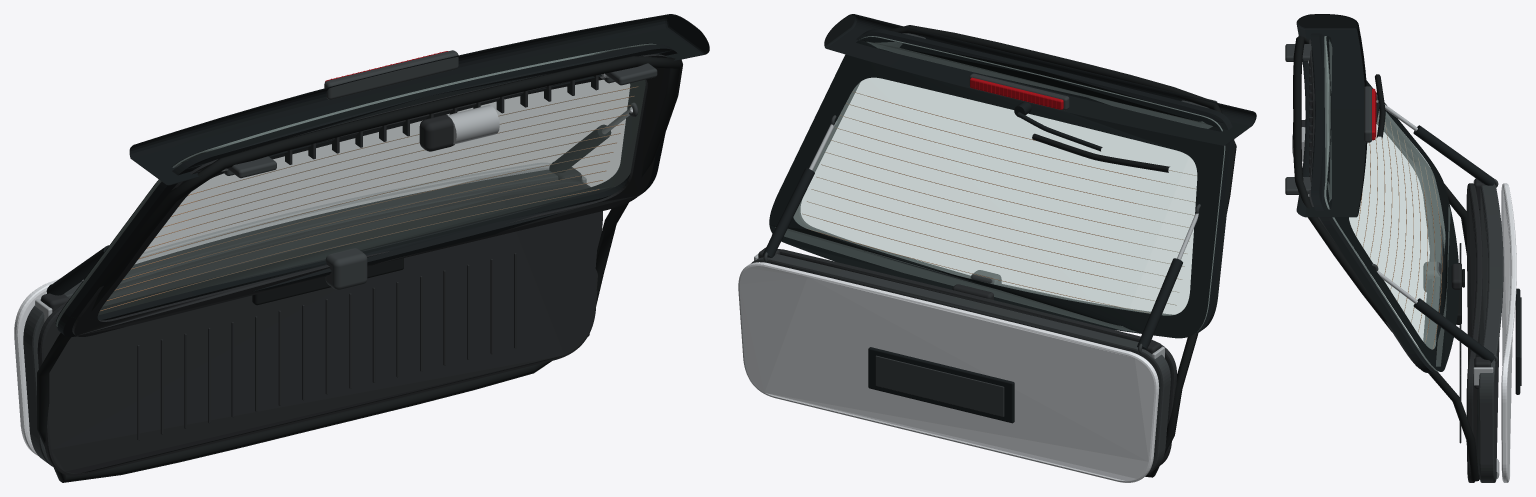
3 views of the same model, side by side, from view 1: azimuth 30°, elevation 25°; view 2: azimuth 150°, elevation 25°; view 3: azimuth 270°, elevation 25° (orthographic). The views are drawn at different scales.
Parts seen in each view (by area): view 1: hatch-lower-trim, rear-glass, hatch-seal, hatch-spoiler, hatch-upper-frame, hatch-upper-trim, tailgate, hatch-lower-panel, hatch-brake-light, hatch-wiper-motor, hatch-upper-lock, hatch-strut-left--strut-barrel (+2 smaller); view 2: rear-glass, hatch-lower-panel, hatch-spoiler, hatch-upper-frame, tailgate, hatch-seal, hatch-lower-trim, hatch-wiper-arm, hatch-brake-light, hatch-strut-left--strut-barrel, hatch-strut-right--strut-barrel, hatch-upper-trim; view 3: rear-glass, hatch-spoiler, hatch-upper-frame, tailgate, hatch-seal, hatch-lower-panel, hatch-lower-trim, hatch-upper-trim, hatch-strut-left--strut-barrel, hatch-strut-right--strut-barrel, hatch-brake-light, hatch-wiper-arm (+5 smaller).
Boxes of the visible parts, x1,y1,x2,y2 form: hatch-lower-trim: (37,180,602,476); rear-glass: (55,43,656,326); hatch-seal: (37,56,682,482); hatch-spoiler: (129,14,709,185); hatch-upper-frame: (57,44,677,336); hatch-upper-trim: (72,54,669,336); tailgate: (23,169,558,466); hatch-lower-panel: (14,162,551,455); hatch-brake-light: (324,50,458,99); hatch-wiper-motor: (419,105,499,151); hatch-upper-lock: (325,248,367,289); hatch-strut-left--strut-barrel: (549,124,611,173); rear-glass: (769,36,1225,338); hatch-lower-panel: (738,262,1159,482); hatch-spoiler: (824,14,1256,145); hatch-upper-frame: (775,29,1234,333); tailgate: (751,254,1170,474); hatch-seal: (772,25,1236,477); hatch-lower-trim: (777,249,1176,465); hatch-wiper-arm: (1014,102,1169,172); hatch-brake-light: (969,73,1069,110); hatch-strut-left--strut-barrel: (762,168,814,257); hatch-strut-right--strut-barrel: (1137,258,1182,349); hatch-upper-trim: (794,82,1174,315); rear-glass: (1324,36,1459,371); hatch-spoiler: (1296,14,1367,217); hatch-upper-frame: (1311,33,1445,372); tailgate: (1478,184,1503,482); hatch-seal: (1293,35,1479,481); hatch-lower-panel: (1501,183,1521,482); hatch-lower-trim: (1456,183,1482,482); hatch-upper-trim: (1309,39,1435,368); hatch-strut-left--strut-barrel: (1413,298,1495,362); hatch-strut-right--strut-barrel: (1413,125,1495,185); hatch-brake-light: (1364,86,1376,142); hatch-wiper-arm: (1375,74,1385,138).
Bounding box in the file's own units: 1.3 × 0.8988 × 0.6305.
